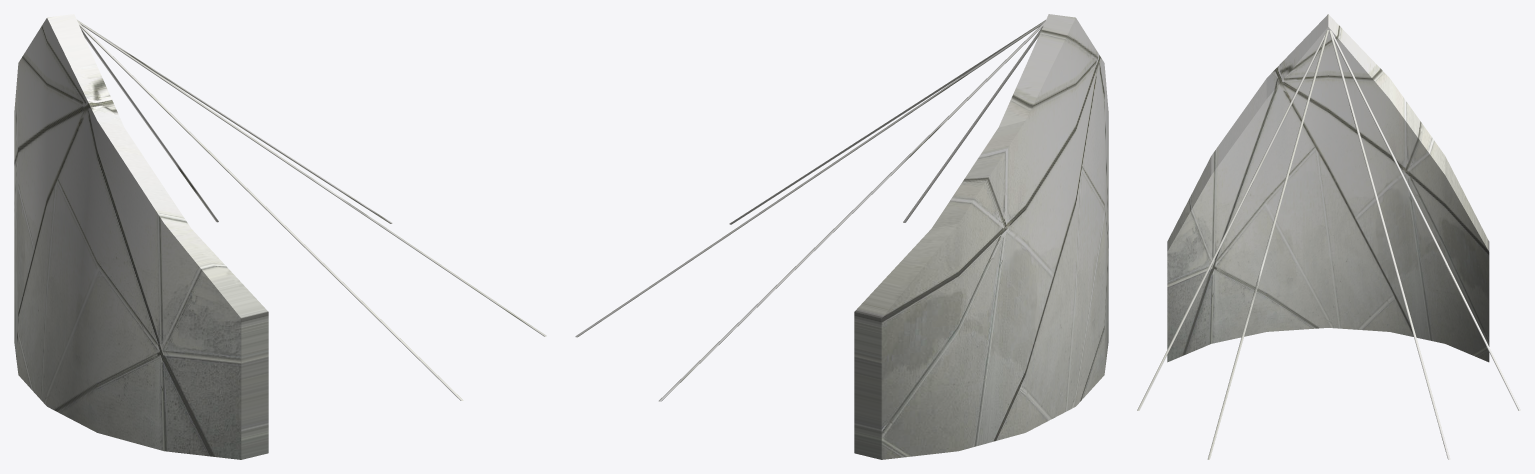
Rendered from wall.obj.
3 renders of one model, left to right at view 1: azimuth 30°, elevation 25°; view 2: azimuth 150°, elevation 25°; view 3: azimuth 270°, elevation 25°, orthographic. The views are drawn at different scales.
Parts seen in each view (by area): view 1: wall:pCylinder18 wall:textureBakeSet3 wall:polySurface1; view 2: wall:pCylinder18 wall:textureBakeSet3 wall:polySurface1; view 3: wall:pCylinder18 wall:textureBakeSet3 wall:polySurface1.
Boxes of the visible parts, x1,y1,x2,y2 form: wall:pCylinder18 wall:textureBakeSet3 wall:polySurface1: (14,14,546,459); wall:pCylinder18 wall:textureBakeSet3 wall:polySurface1: (575,14,1108,459); wall:pCylinder18 wall:textureBakeSet3 wall:polySurface1: (1137,14,1520,459).
Size of the model in its own units: 9.92 by 8.72 by 9.99.
1 material, 1 textured.
